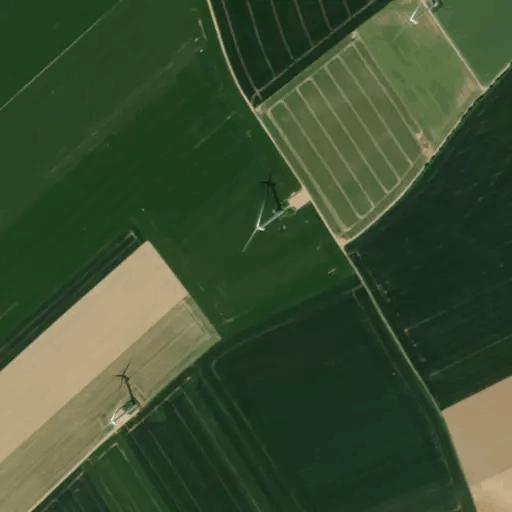wt: (234, 163, 290, 260), (93, 353, 142, 447), (387, 1, 443, 48)
